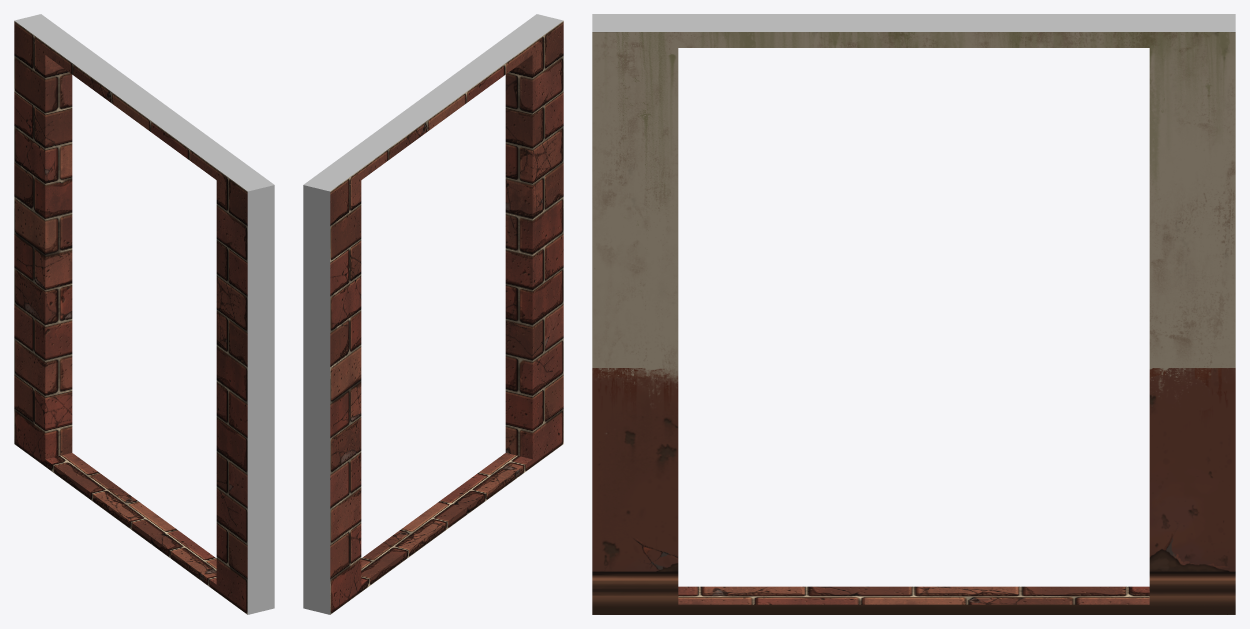
The model's file is wall01_door2m_B.fbx.
3 renders of one model, left to right at view 1: azimuth 30°, elevation 25°; view 2: azimuth 150°, elevation 25°; view 3: azimuth 270°, elevation 25°, orthographic. The views are drawn at different scales.
Parts seen in each view (by area): view 1: wall01_door2m_B; view 2: wall01_door2m_B; view 3: wall01_door2m_B.
Part boxes in pixels (<box>): wall01_door2m_B: <box>14,14,274,614</box>; wall01_door2m_B: <box>303,14,563,614</box>; wall01_door2m_B: <box>592,14,1235,614</box>.
Size of the model in its own units: 20 by 300 by 300.
